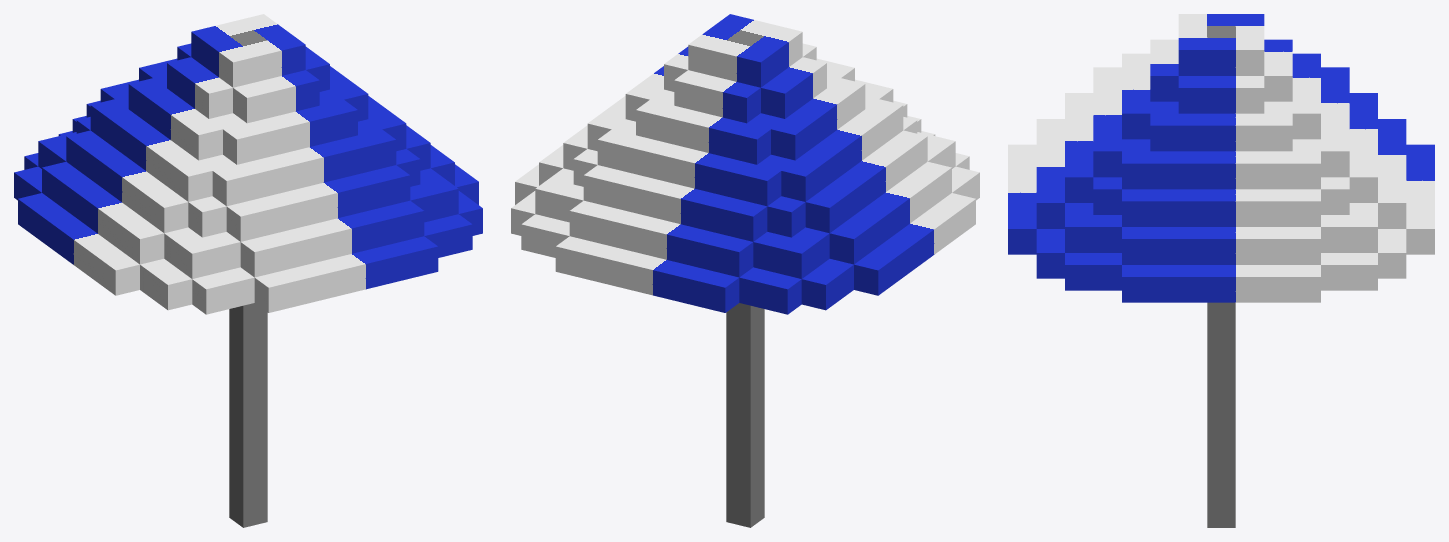
File: Umbrella_BlueWhite.fbx
3 views of the same model, side by side, from view 1: azimuth 30°, elevation 25°; view 2: azimuth 150°, elevation 25°; view 3: azimuth 270°, elevation 25° (orthographic).
Parts seen in each view (by area): view 1: _1; view 2: _1; view 3: _1.
Boxes of the visible parts, x1,y1,x2,y2 form: _1: (14,14,482,527); _1: (511,14,979,527); _1: (1008,14,1434,527).
Size of the model in its own units: 15 by 19 by 15.
